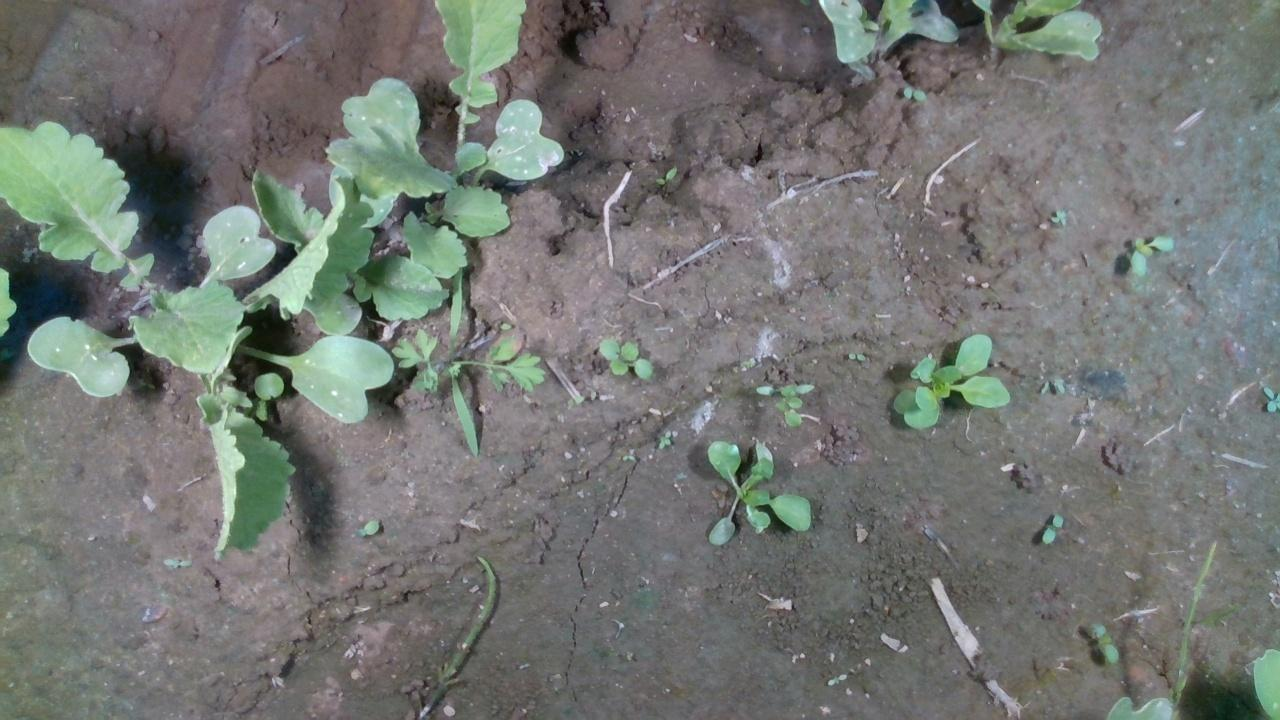weed: (595, 337, 654, 379), (1090, 621, 1119, 664), (1038, 512, 1063, 543), (653, 165, 677, 186), (902, 85, 928, 102), (160, 554, 192, 566), (656, 429, 671, 451), (1048, 208, 1066, 225), (846, 349, 868, 361)
